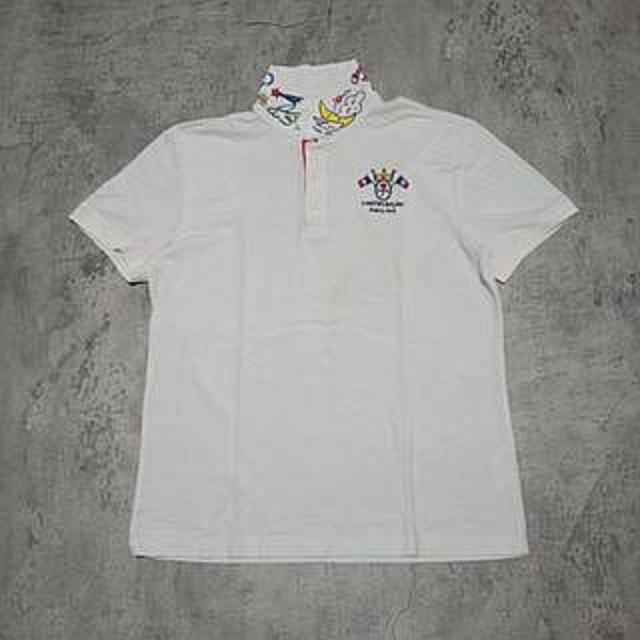T_SHIRT: (59, 45, 586, 561)
